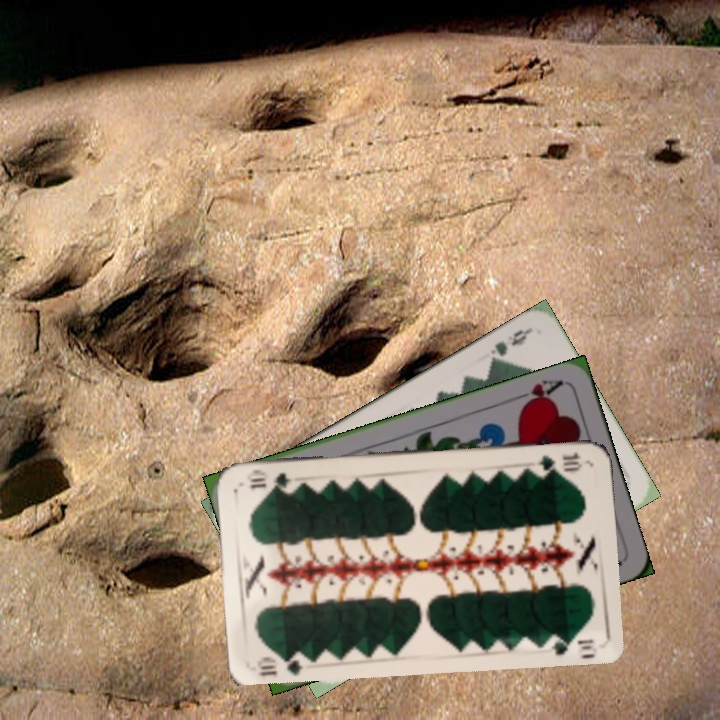G10: (253, 648, 309, 678), (532, 448, 585, 474)
G9: (485, 324, 534, 369)
HA: (508, 375, 566, 411)
